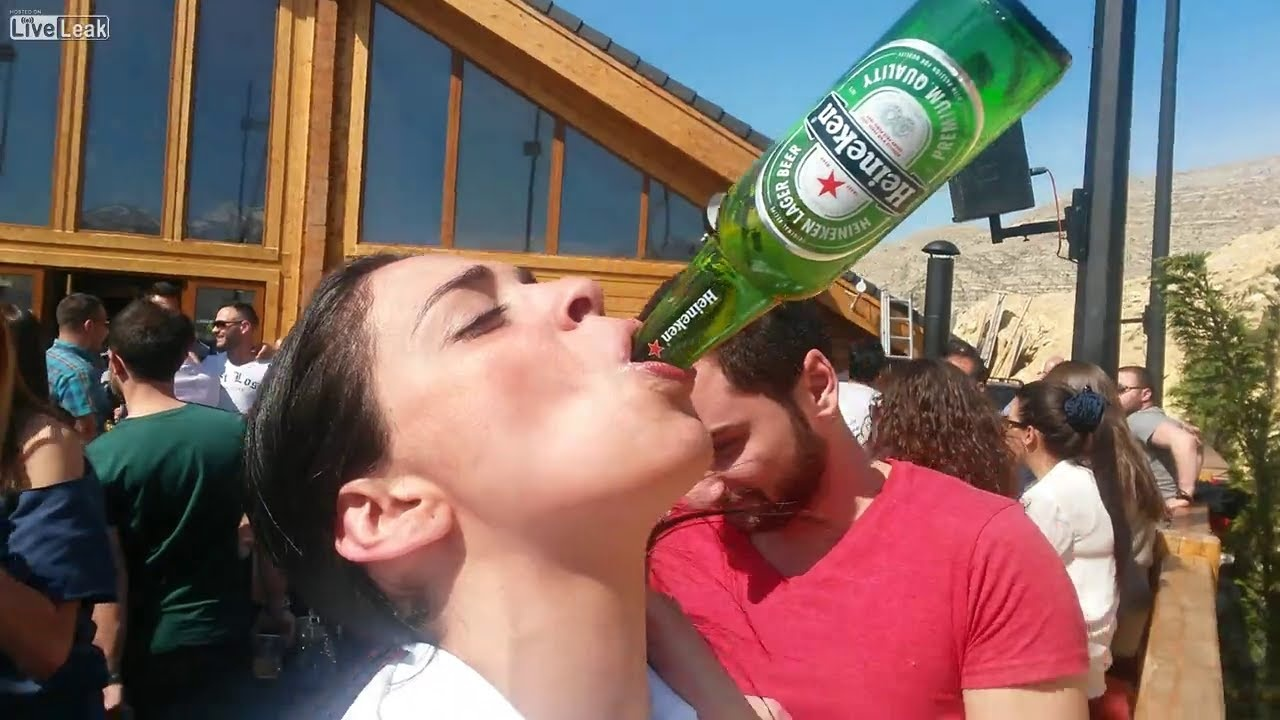beerBottle: (626, 6, 1043, 364)
